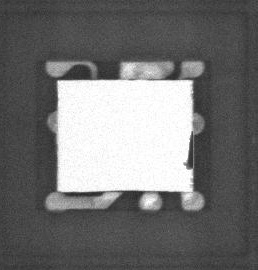DIE_BROKEN: (181, 130, 195, 171)
